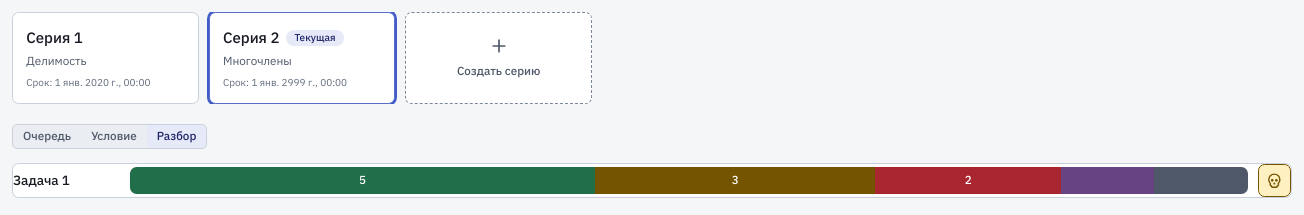
it: SeriesPage — teacher view › drives tab switching through the URL (push navigation)
Expected: the picture named "Распределение статусов по задаче Задача 1: Принято — 5" is shown, left=130, top=167, right=1248, bottom=194
Clicking «Очередь» navigates to series/:id/queue and swaps the content.
Click the tab "Очередь" at coordinates (47, 137), box left=13, top=125, right=81, bottom=148
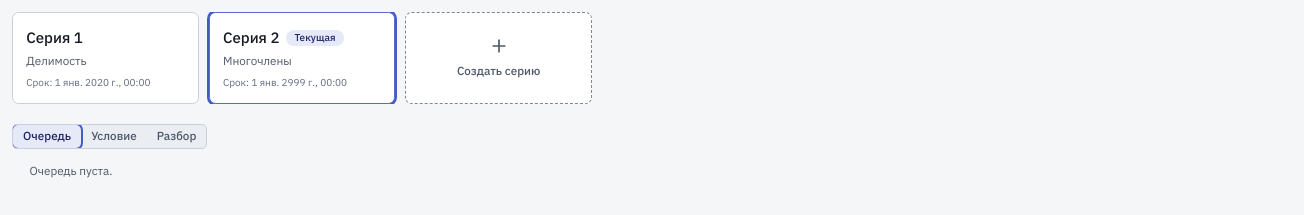
Expected: the text "Очередь пуста." is shown, left=30, top=163, right=112, bottom=178
